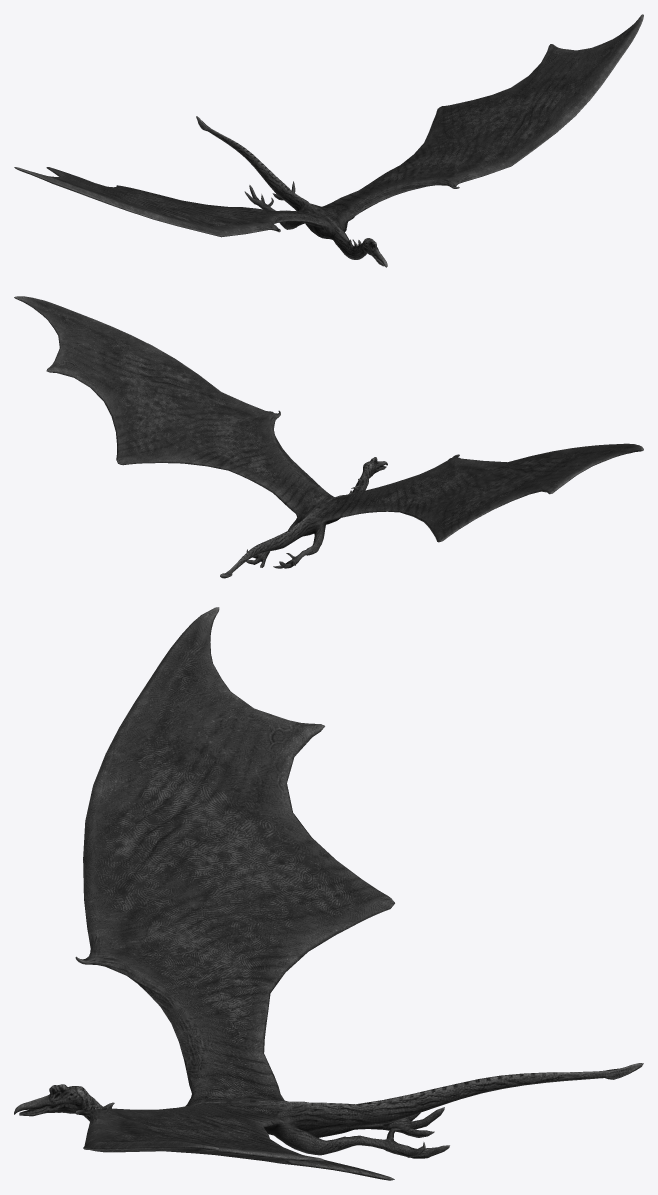
Rendered from Fellbeast_FlyAnim_17.obj.
The picture shows the model from 3 angles, top to bottom: view 1: azimuth 30°, elevation 25°; view 2: azimuth 150°, elevation 25°; view 3: azimuth 270°, elevation 25°; orthographic projection. The views are drawn at different scales.
Visible parts, largest first — view 1: Fellbeast; view 2: Fellbeast; view 3: Fellbeast.
Part boxes in pixels (x1,y1,x2,y2): Fellbeast: [14, 14, 643, 267]; Fellbeast: [14, 296, 643, 578]; Fellbeast: [14, 607, 643, 1180].
Bounding box in the file's own units: 8.86 × 2.09 × 4.36.
